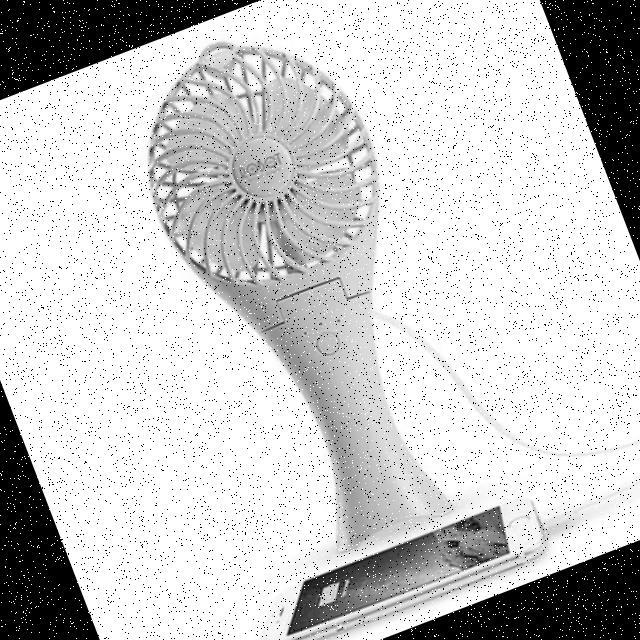fan: (108, 4, 503, 568)
